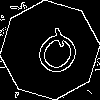Q: (25, 25, 86, 87)
